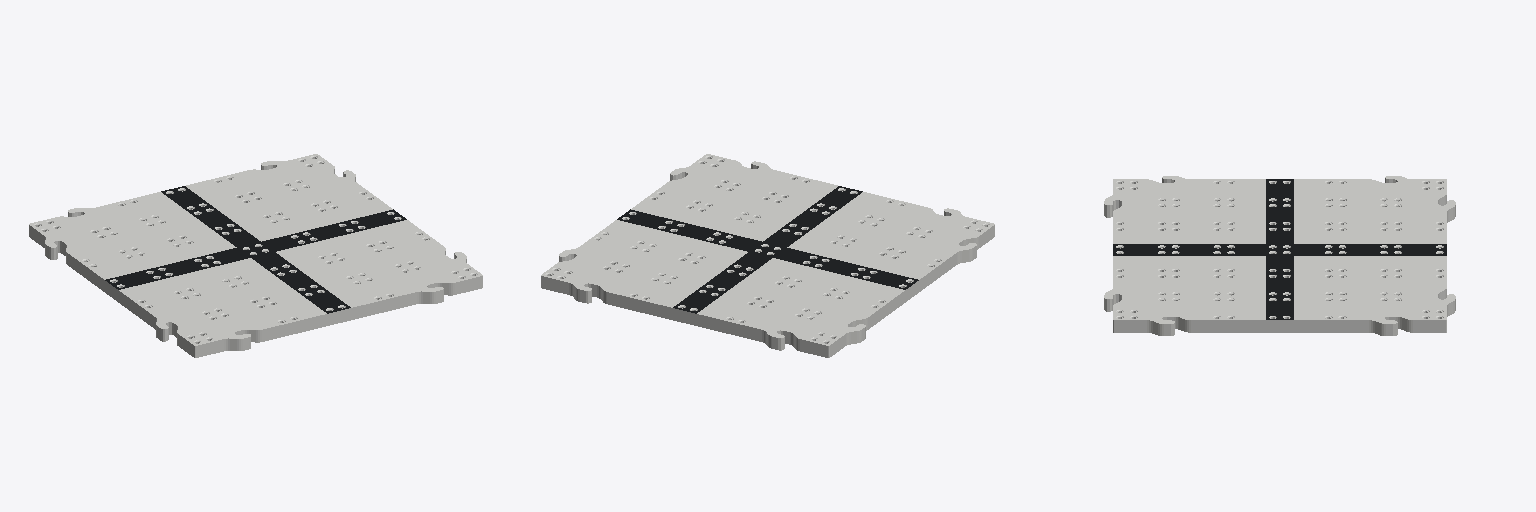
File: VIQRC-MixAndMatch-H2H-_-GameObjects_Floor.obj
3 renders of one model, left to right at view 1: azimuth 30°, elevation 25°; view 2: azimuth 150°, elevation 25°; view 3: azimuth 270°, elevation 25°, orthographic.
Visible parts, largest first — view 1: Body1, Body2; view 2: Body1, Body2; view 3: Body1, Body2.
Boxes of the visible parts, x1,y1,x2,y2 form: Body1: [29, 154, 482, 357]; Body2: [105, 186, 406, 313]; Body1: [541, 154, 994, 357]; Body2: [617, 186, 918, 313]; Body1: [1104, 176, 1455, 335]; Body2: [1113, 179, 1446, 319].
Size of the model in its own units: 321 by 12.55 by 321.